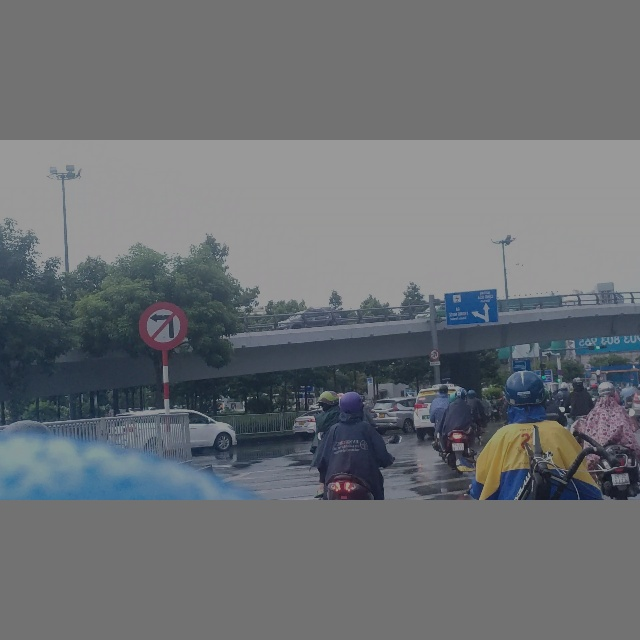P.123b: (138, 301, 189, 351)
P.124b1: (429, 349, 440, 361)
